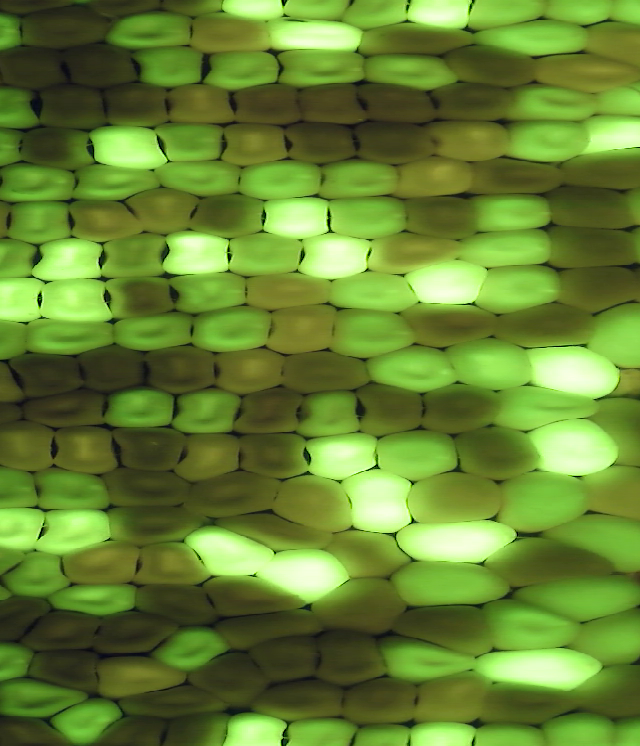fluorescent: (389, 554, 525, 614), (487, 469, 603, 539), (390, 515, 526, 572), (476, 591, 592, 656), (505, 570, 640, 624), (513, 413, 625, 477), (540, 511, 640, 581), (373, 626, 484, 689), (488, 382, 611, 438), (520, 339, 629, 401), (181, 521, 286, 584), (436, 328, 536, 394), (251, 544, 354, 607), (335, 465, 420, 539), (467, 258, 568, 320), (471, 13, 595, 60), (324, 302, 426, 359), (365, 339, 465, 396), (373, 422, 464, 483), (321, 269, 429, 319), (393, 256, 496, 308), (559, 603, 640, 669), (185, 299, 280, 354), (493, 79, 601, 126), (299, 425, 386, 483), (32, 272, 120, 329), (494, 116, 596, 165), (45, 691, 134, 746), (576, 297, 640, 373), (0, 674, 97, 724), (291, 229, 381, 282), (33, 461, 119, 516), (18, 312, 123, 357), (86, 120, 175, 173), (25, 506, 119, 556), (168, 381, 249, 439), (151, 621, 238, 675), (222, 229, 312, 281), (167, 263, 256, 315), (24, 229, 106, 285), (292, 384, 375, 439), (452, 225, 555, 269), (40, 577, 145, 620), (150, 116, 235, 169), (325, 192, 415, 241), (271, 46, 371, 90), (359, 50, 463, 92), (94, 229, 176, 282), (102, 9, 205, 50), (264, 18, 369, 58), (0, 196, 77, 250), (465, 189, 557, 234), (314, 156, 408, 200), (98, 384, 183, 432), (104, 309, 198, 352), (258, 192, 342, 240), (0, 546, 76, 599), (150, 158, 248, 199), (234, 159, 331, 200), (70, 159, 166, 200), (204, 45, 285, 93), (458, 1, 557, 39), (132, 42, 211, 89), (0, 159, 80, 205), (539, 706, 624, 746), (278, 711, 366, 746), (220, 705, 292, 746), (525, 1, 631, 28), (0, 457, 46, 519), (0, 503, 55, 554), (398, 1, 485, 33), (0, 271, 50, 326), (589, 74, 640, 127), (580, 110, 640, 155), (0, 234, 49, 284), (336, 1, 413, 32), (0, 81, 45, 133), (404, 717, 482, 746), (467, 719, 549, 746), (0, 315, 45, 363), (0, 636, 40, 690), (346, 718, 423, 746), (216, 1, 290, 24), (0, 536, 32, 584), (277, 1, 352, 21), (0, 122, 31, 170), (599, 1, 640, 31), (602, 714, 640, 746)
nonfluorescent: (485, 534, 621, 593), (400, 468, 510, 529), (307, 573, 410, 637), (389, 599, 496, 659), (489, 299, 602, 354), (212, 508, 341, 556), (185, 649, 276, 714), (525, 48, 640, 99), (209, 606, 331, 654), (179, 468, 286, 522), (87, 649, 192, 704), (395, 301, 505, 353), (267, 472, 357, 535), (202, 571, 312, 622), (309, 623, 393, 689), (452, 423, 544, 483), (415, 379, 505, 440), (405, 667, 490, 731), (55, 534, 144, 594), (550, 260, 640, 319), (476, 680, 585, 728), (323, 528, 416, 584), (355, 19, 483, 59), (540, 222, 640, 273), (140, 341, 228, 398), (275, 346, 374, 396), (565, 658, 640, 724), (545, 183, 640, 235), (13, 2, 113, 51), (105, 499, 205, 548), (365, 230, 467, 278), (1, 349, 90, 404), (336, 673, 423, 729), (442, 41, 542, 89), (249, 678, 352, 724), (112, 680, 233, 719), (352, 378, 429, 439), (22, 645, 108, 699), (89, 608, 180, 659), (127, 580, 221, 629), (17, 607, 107, 658), (119, 183, 202, 238), (107, 422, 190, 477), (72, 341, 152, 398), (245, 629, 322, 688), (232, 428, 313, 484), (470, 152, 566, 199), (16, 385, 109, 433), (100, 462, 193, 510), (35, 79, 115, 134), (396, 192, 484, 242), (425, 118, 518, 165), (263, 301, 341, 357), (349, 79, 441, 126), (186, 10, 275, 58), (424, 78, 516, 124), (239, 269, 337, 312), (556, 143, 640, 193), (45, 423, 121, 478), (355, 119, 440, 168), (231, 383, 305, 439), (389, 153, 479, 199), (64, 196, 150, 244), (131, 539, 215, 588), (209, 345, 288, 397), (576, 462, 640, 526), (104, 270, 178, 325), (169, 430, 245, 483), (15, 125, 95, 175), (282, 118, 361, 168), (65, 39, 141, 90), (590, 394, 640, 471), (0, 417, 64, 477), (101, 79, 173, 131), (217, 119, 290, 169), (229, 81, 305, 129), (296, 79, 366, 131), (164, 79, 239, 127), (0, 42, 71, 92), (580, 18, 640, 73), (0, 710, 86, 746), (84, 710, 168, 746), (157, 709, 234, 746), (0, 591, 45, 650)
